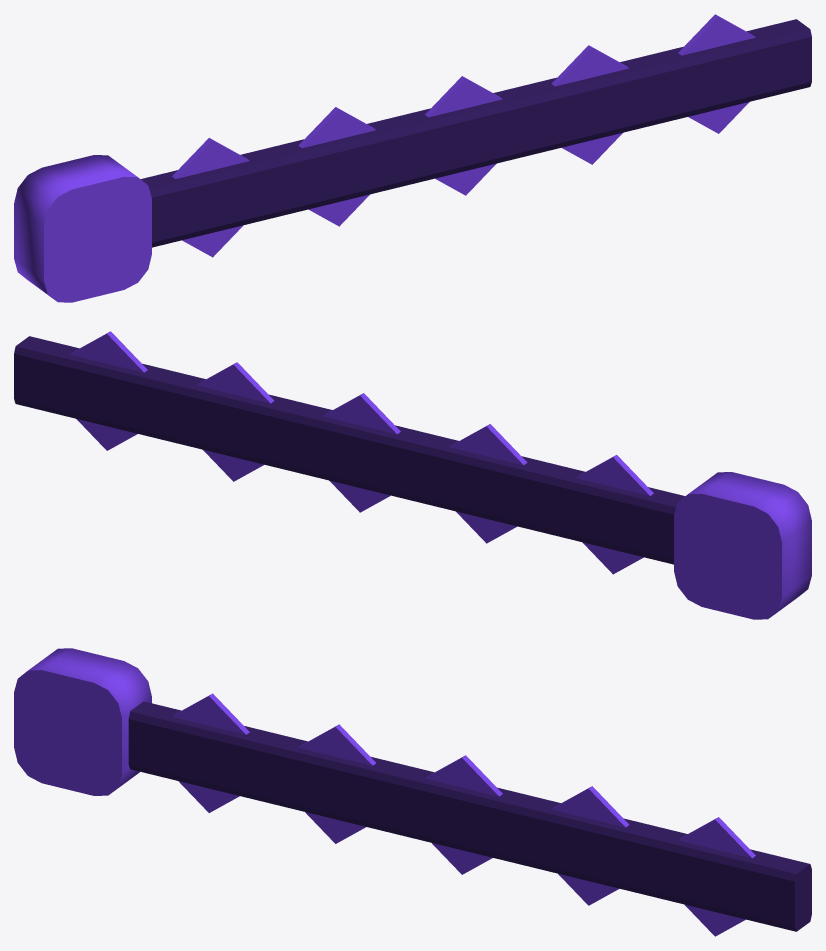
File: Gimmick_03.fbx
3 renders of one model, top to bottom at view 1: azimuth 30°, elevation 25°; view 2: azimuth 150°, elevation 25°; view 3: azimuth 330°, elevation 25°, orthographic.
Parts seen in each view (by area): view 1: Gimmick_03_Head, Gimmick_03_Body; view 2: Gimmick_03_Head, Gimmick_03_Body; view 3: Gimmick_03_Head, Gimmick_03_Body.
Part boxes in pixels (x1,y1,x2,y2): Gimmick_03_Head: (141,14,811,257); Gimmick_03_Body: (14,155,151,302); Gimmick_03_Head: (14,331,684,574); Gimmick_03_Body: (674,472,811,619); Gimmick_03_Head: (128,693,811,936); Gimmick_03_Body: (14,648,151,795).
Size of the model in its own units: 6.12 by 0.8839 by 0.4092.
